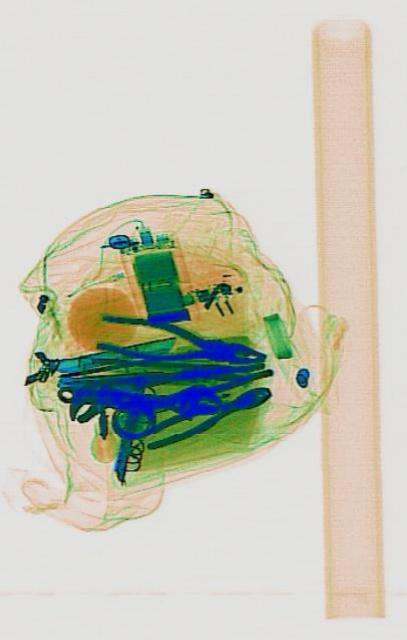Pliers: (94, 308, 265, 376), (141, 376, 272, 452)
